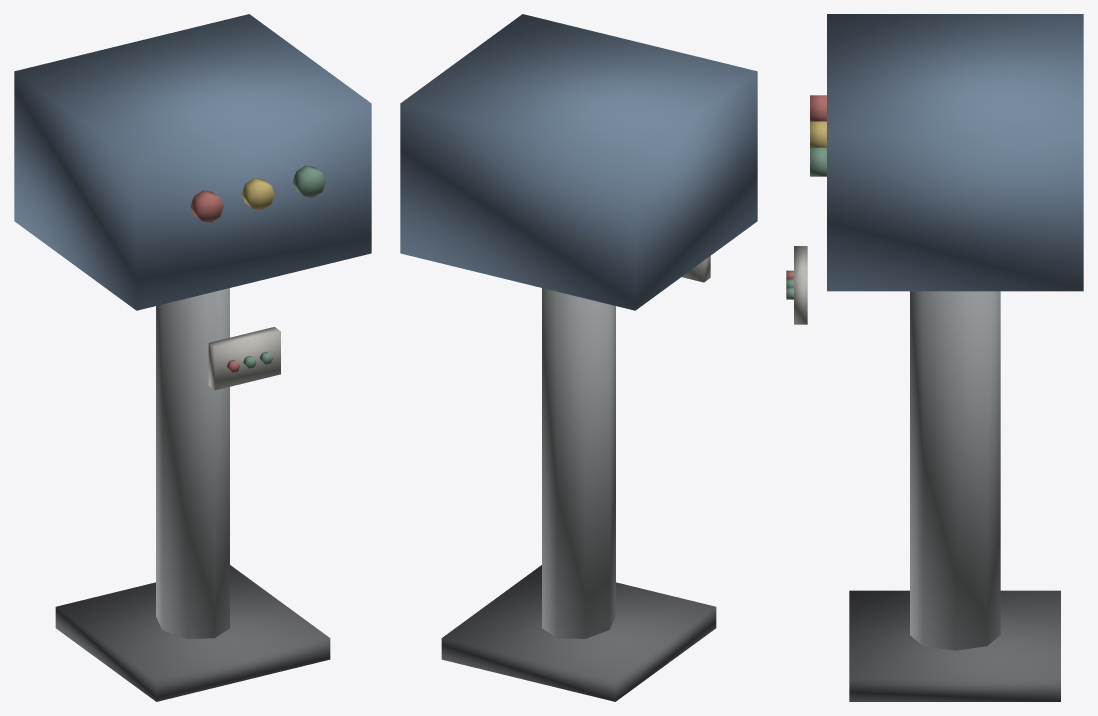
File: pedestal_machine_control__deep.glb
The picture shows the model from 3 angles, left to right: view 1: azimuth 30°, elevation 25°; view 2: azimuth 150°, elevation 25°; view 3: azimuth 270°, elevation 25°; orthographic projection. The views are drawn at different scales.
Parts seen in each view (by area): view 1: world; view 2: world; view 3: world.
Part boxes in pixels (x1,y1,x2,y2): world: (14,14,371,701); world: (400,14,757,701); world: (786,14,1083,701).
Size of the model in its own units: 0.46 by 1.04 by 0.4801.
